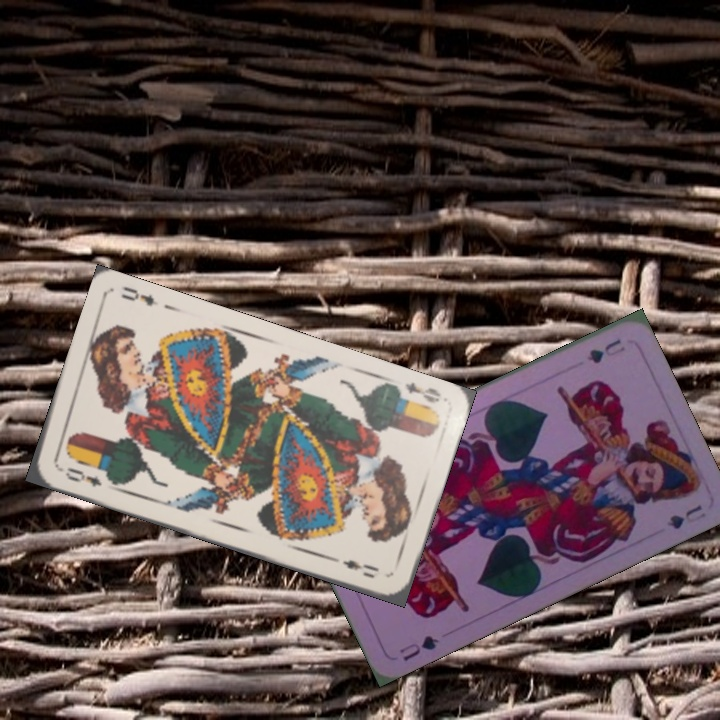EO: (401, 378, 444, 406), (61, 463, 105, 490)
GU: (395, 631, 442, 664), (583, 335, 628, 367)
